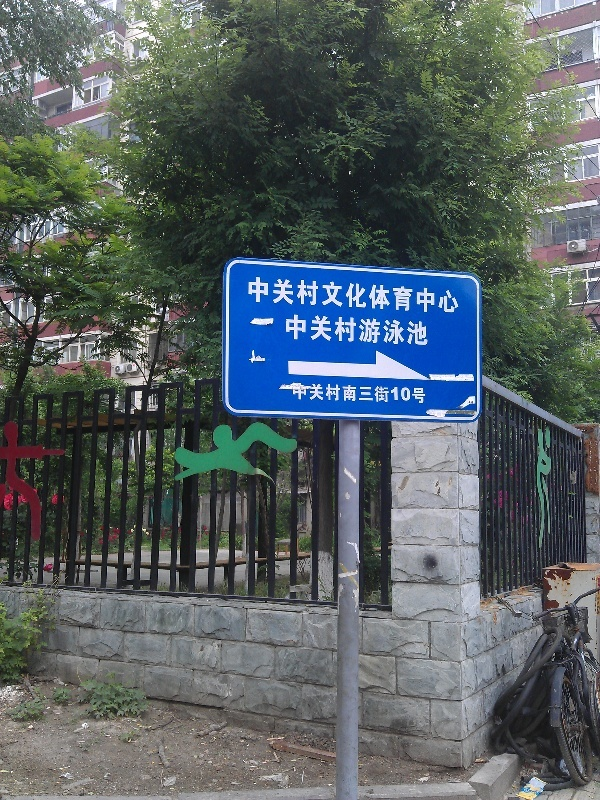text: (257, 276, 272, 315), (273, 276, 288, 315), (289, 276, 304, 315), (305, 276, 320, 315), (321, 276, 336, 315), (337, 276, 352, 315), (353, 276, 368, 315), (369, 276, 384, 315), (385, 276, 400, 315), (401, 276, 416, 315), (417, 276, 432, 315), (433, 276, 448, 315), (289, 314, 304, 347), (305, 314, 320, 347), (321, 314, 336, 347), (337, 314, 352, 347), (353, 314, 368, 347), (369, 314, 384, 347), (385, 314, 400, 347), (401, 314, 416, 347), (449, 276, 460, 315), (417, 314, 429, 347), (305, 382, 320, 405), (321, 382, 336, 405), (337, 382, 352, 405), (353, 382, 368, 405), (369, 382, 384, 405), (385, 382, 400, 405), (401, 382, 416, 405), (248, 276, 256, 315), (293, 382, 304, 405), (417, 382, 427, 405), (286, 314, 288, 347)
